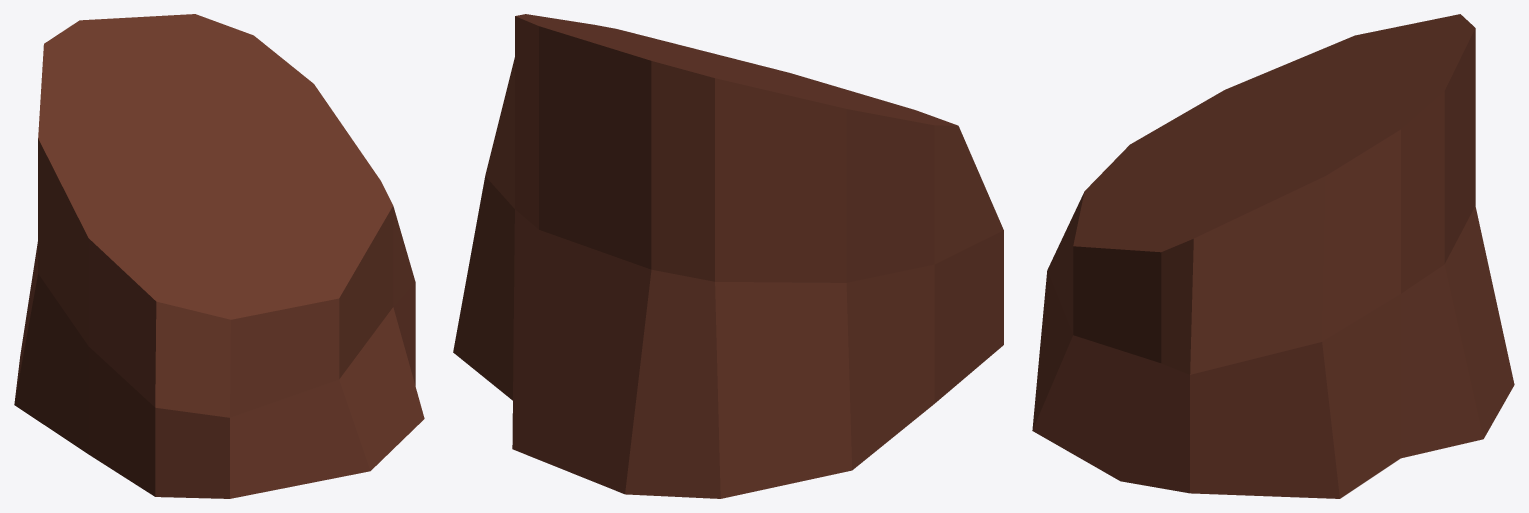
Rendered from Rock 1.fbx.
3 renders of one model, left to right at view 1: azimuth 30°, elevation 25°; view 2: azimuth 150°, elevation 25°; view 3: azimuth 270°, elevation 25°, orthographic. The views are drawn at different scales.
Visible parts, largest first — view 1: Rock 1; view 2: Rock 1; view 3: Rock 1.
Part boxes in pixels (bbox=[...]): Rock 1: bbox=[14, 14, 424, 498]; Rock 1: bbox=[453, 14, 1003, 498]; Rock 1: bbox=[1032, 14, 1514, 498].
Size of the model in its own units: 211 by 200 by 246.
